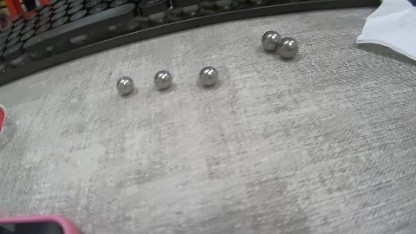ironball: (115, 73, 134, 96), (279, 37, 297, 58), (198, 64, 216, 85), (261, 30, 278, 51), (154, 68, 170, 89)
